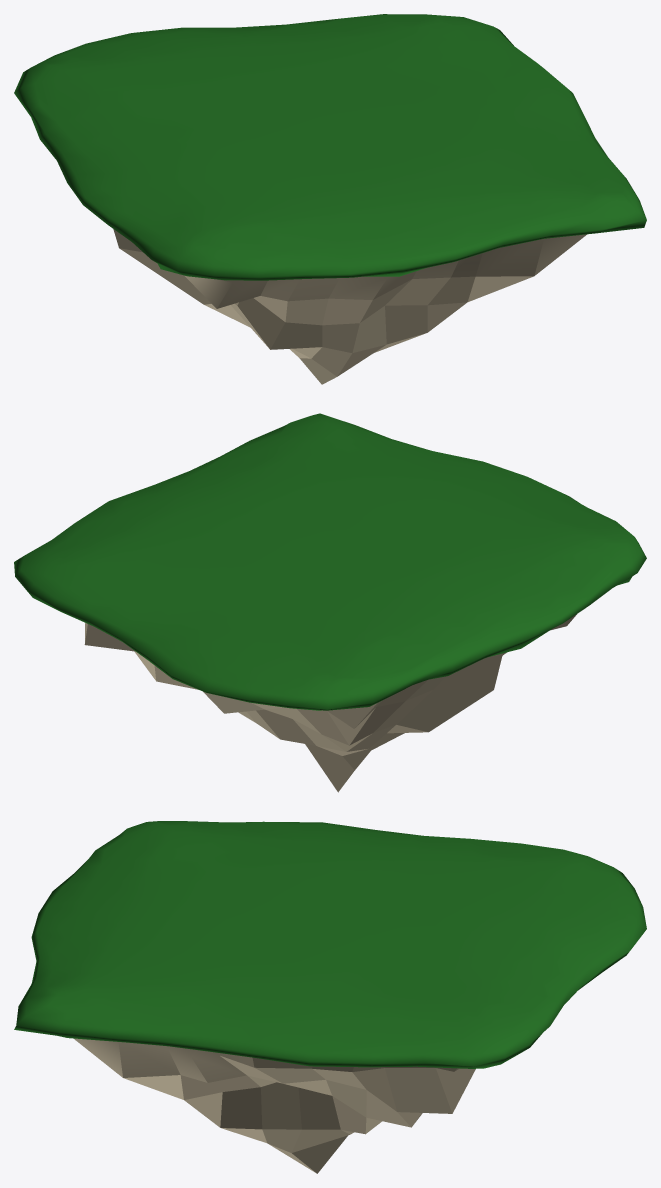
File: SM_Island1.fbx
3 renders of one model, top to bottom at view 1: azimuth 30°, elevation 25°; view 2: azimuth 150°, elevation 25°; view 3: azimuth 270°, elevation 25°, orthographic. The views are drawn at different scales.
Visible parts, largest first — view 1: SM_Island8; view 2: SM_Island8; view 3: SM_Island8.
Part boxes in pixels (<box>): SM_Island8: <box>14,14,646,384</box>; SM_Island8: <box>14,413,646,792</box>; SM_Island8: <box>14,821,646,1173</box>.
Bounding box in the file's own units: 40.95 × 20.48 × 45.68.
